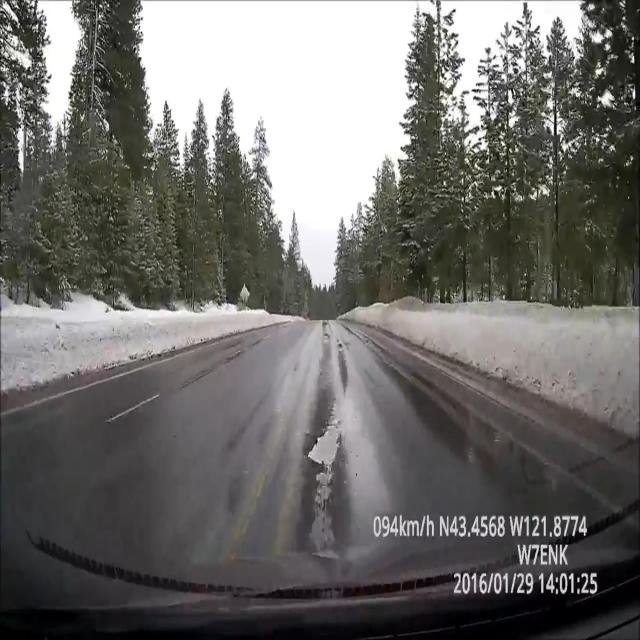Pothole: (314, 396, 343, 498)
